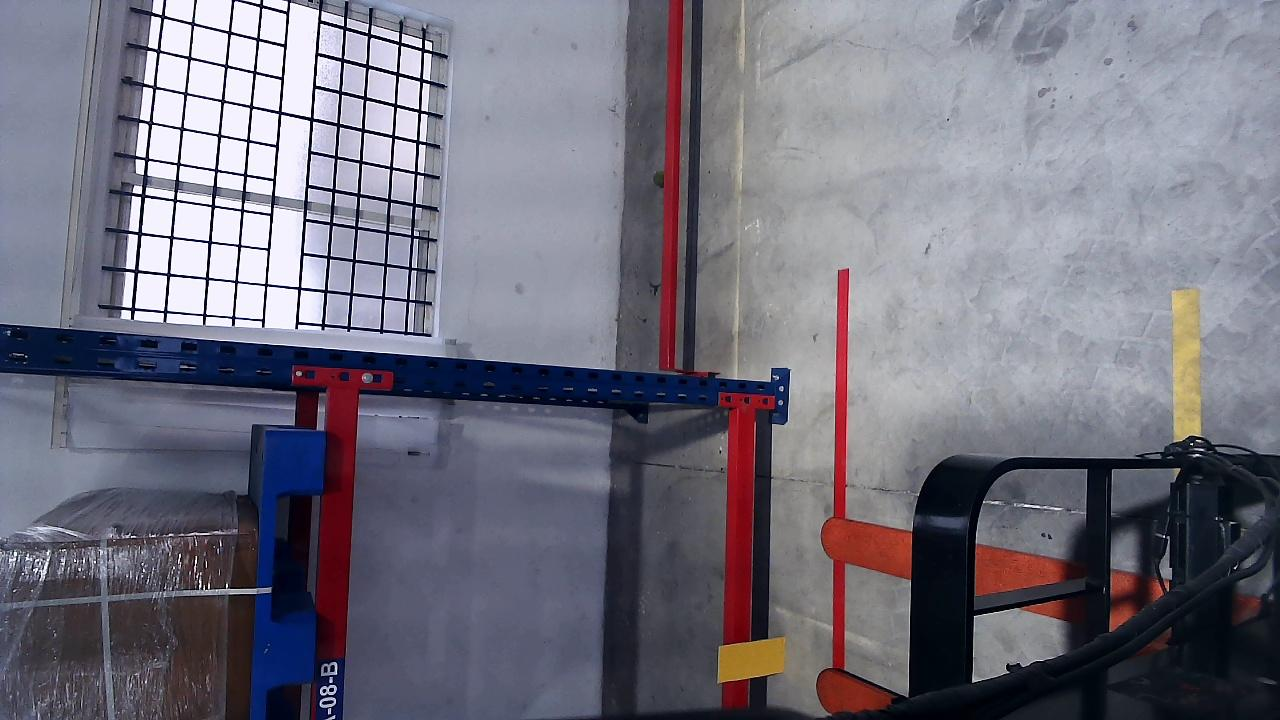h_rack: (309, 386, 362, 713), (725, 406, 758, 709)
orange_strip: (718, 638, 785, 680)
red_line: (831, 270, 850, 517)
small_pallet: (248, 411, 324, 719)
yellow_line: (1170, 289, 1202, 439)
